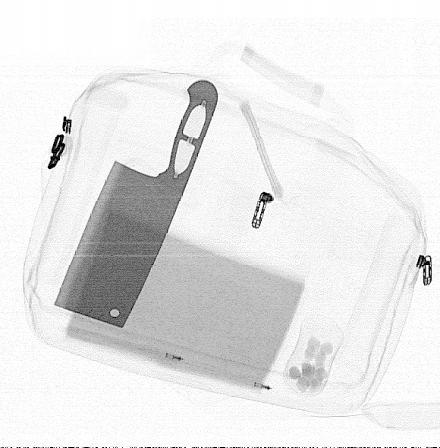Knife: (53, 78, 220, 330)
